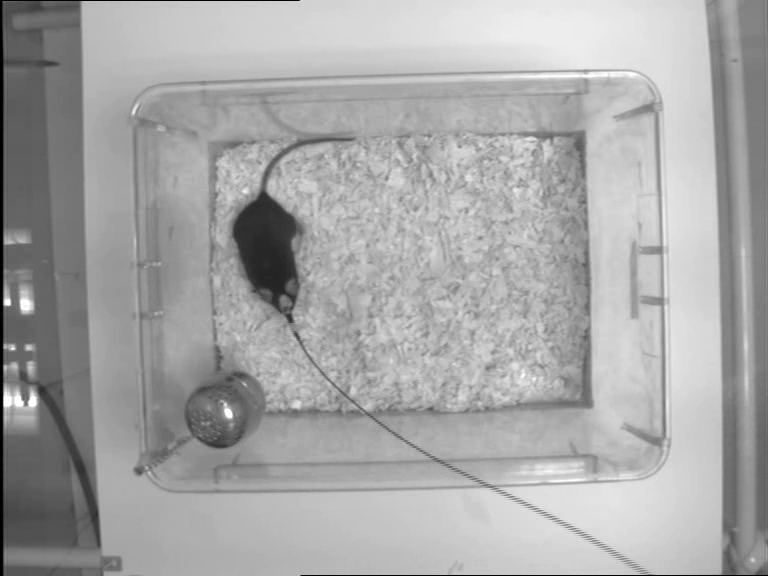mice: (233, 134, 358, 319)
